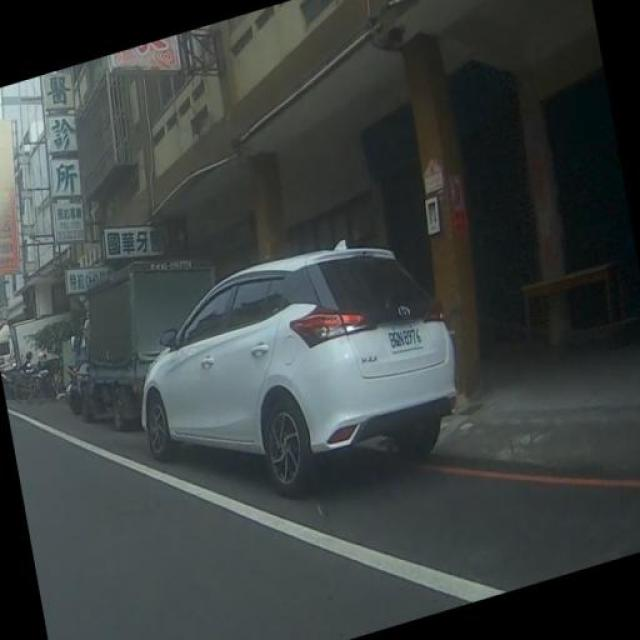illegalparking: (72, 159, 526, 488)
